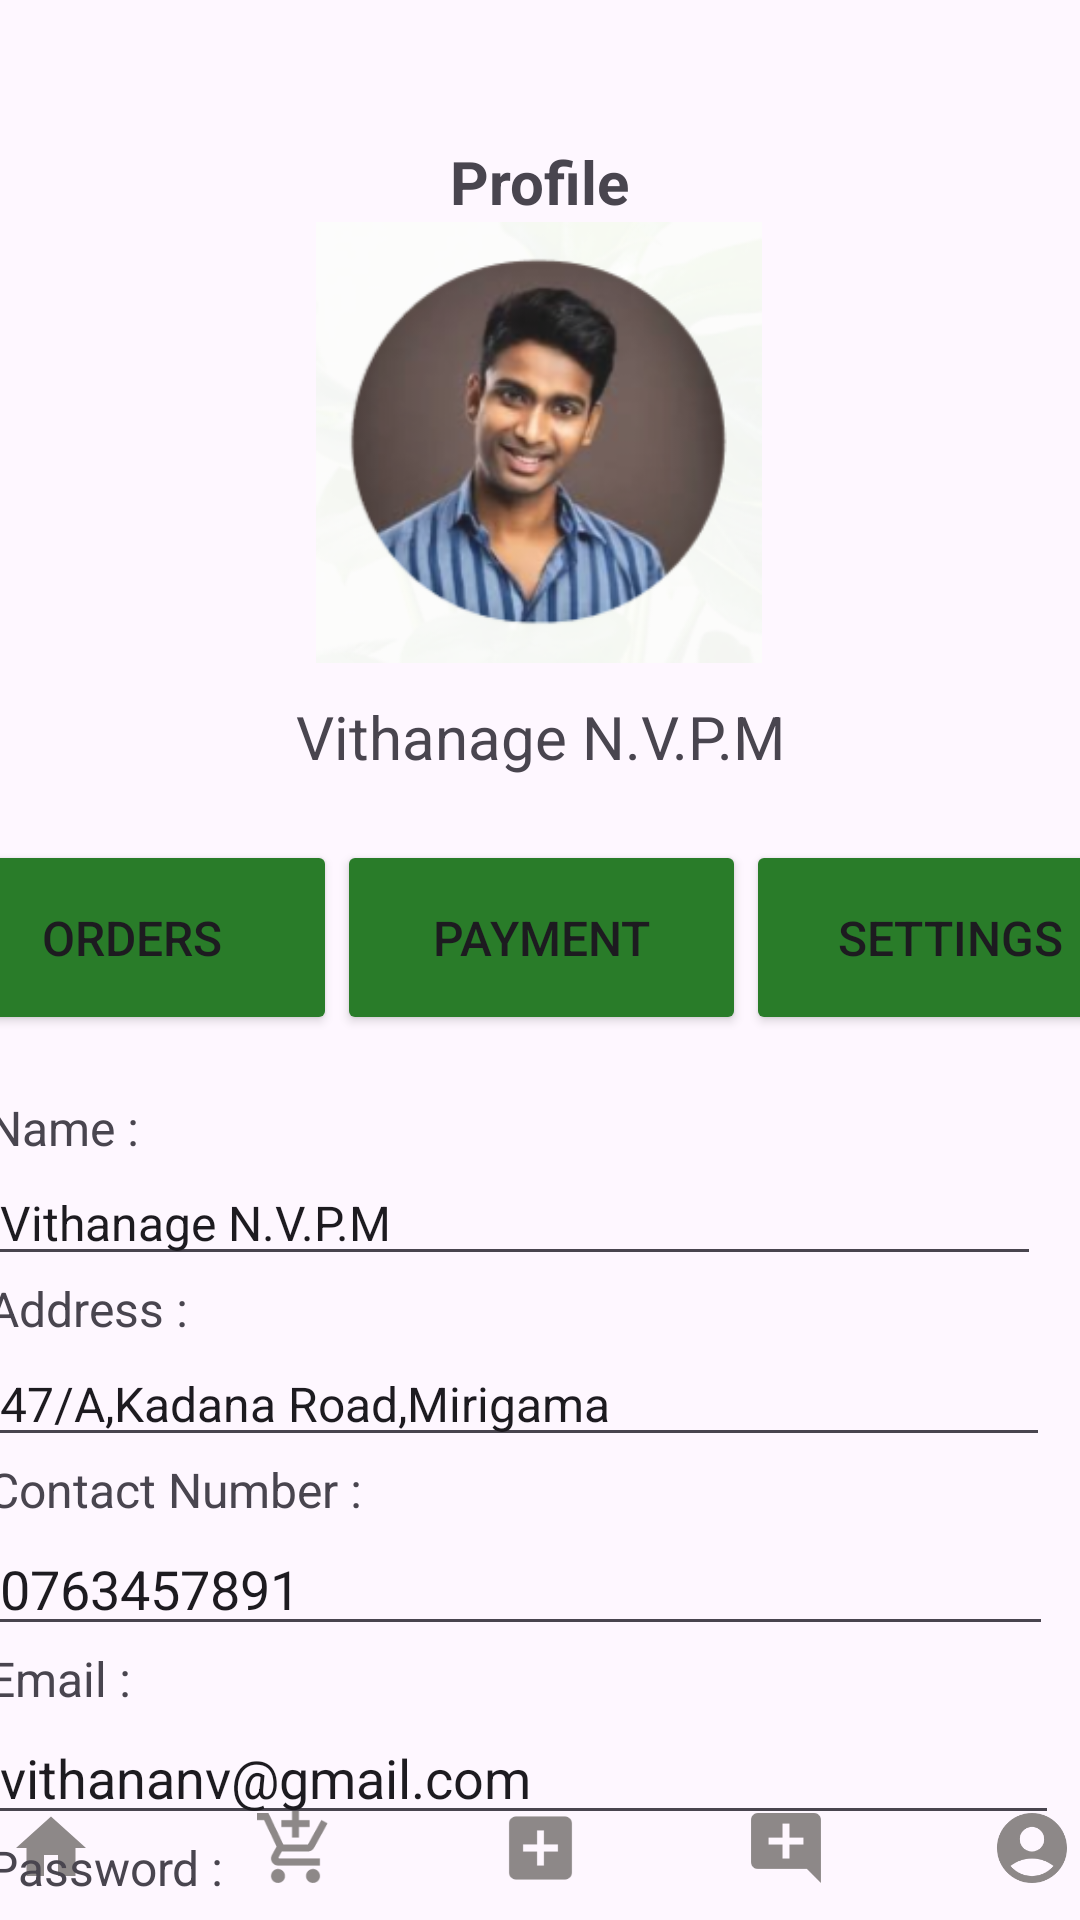

Icon click points for this 1080w x 1920h phone screenshot, format (x=x, y=y):
add box: (x=540, y=1848)
add comment: (x=786, y=1848)
